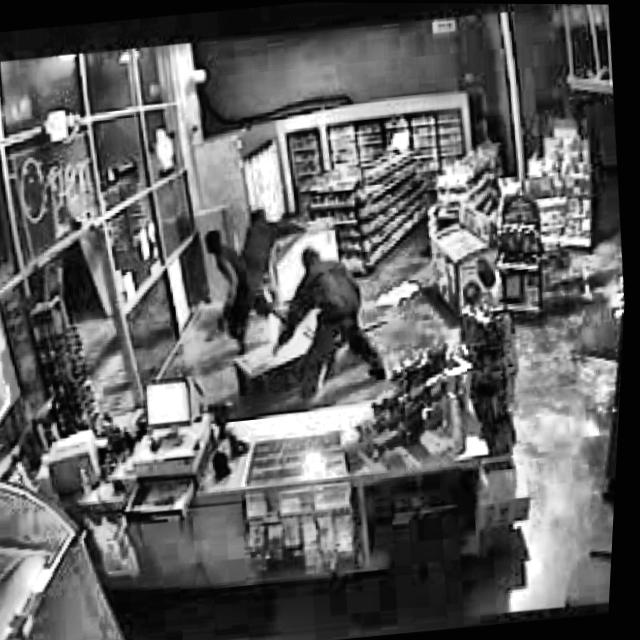burglary: (192, 189, 411, 415)
